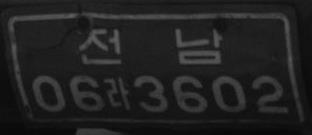0: (211, 75, 248, 114), (30, 73, 66, 112)
2: (250, 74, 288, 115)
3: (133, 74, 168, 113)
6: (68, 72, 106, 113), (171, 74, 208, 115)
라: (105, 76, 132, 111)
전남_D: (74, 26, 223, 66)
